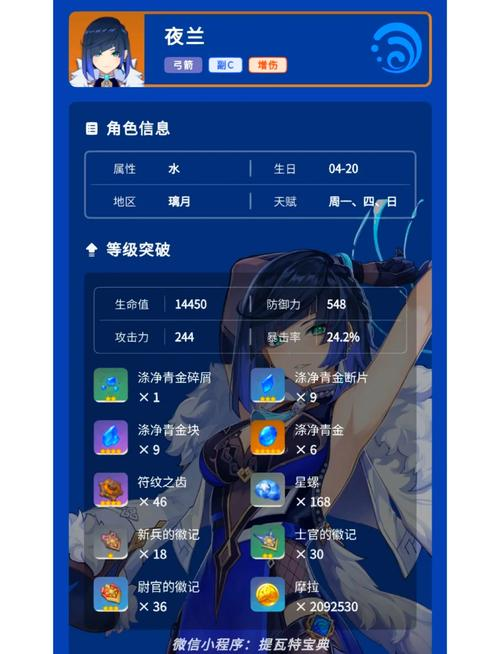夜兰: (168, 243, 431, 652), (70, 16, 147, 88)
